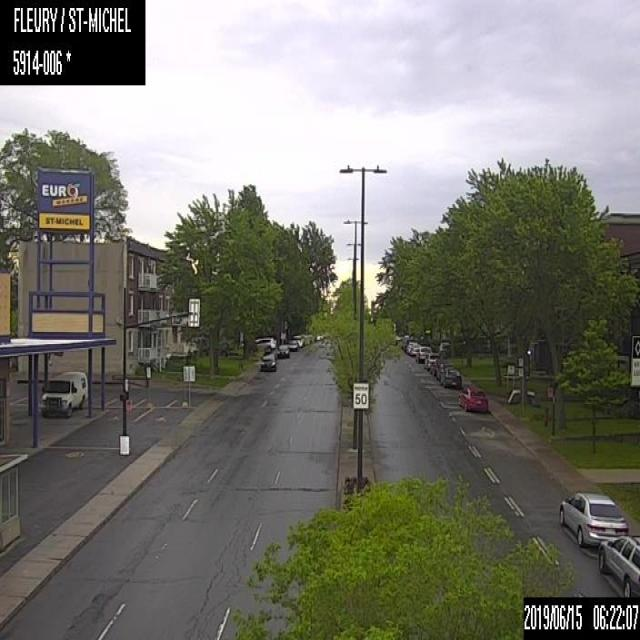vehicle: (557, 486, 628, 546), (39, 368, 87, 418), (600, 535, 639, 593), (457, 383, 489, 412), (440, 366, 462, 389), (423, 349, 439, 370), (259, 351, 275, 372), (414, 344, 430, 362), (256, 336, 274, 350), (275, 341, 289, 359)
